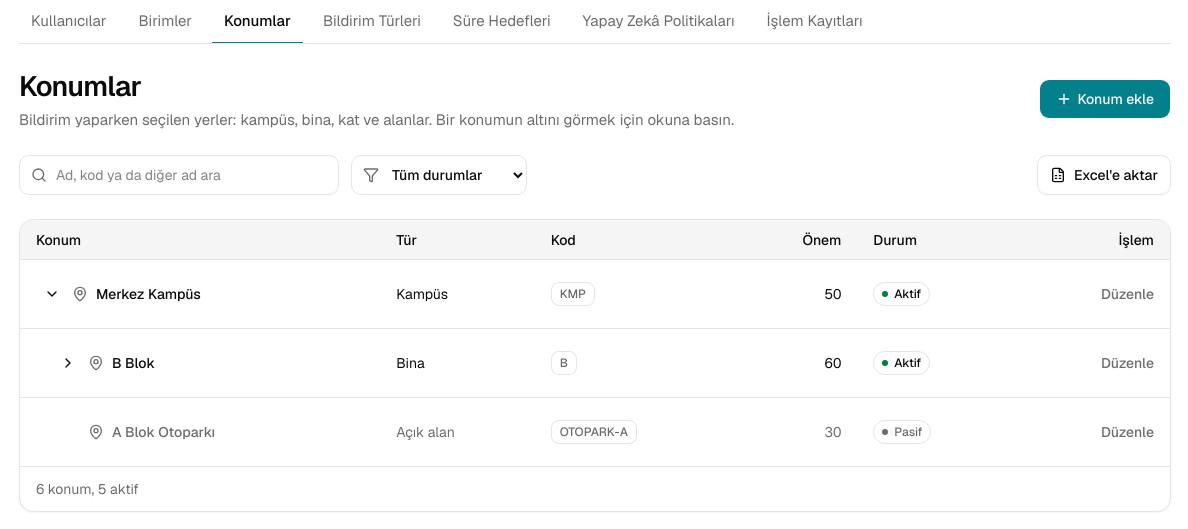
LocationsScreen › searches every level and shows where each result is
The width and height of the screenshot is (1188, 529).
Type "amfi" into the search field named "Konum ara".
click(179, 175); type("amfi")  # box x1=19 y1=155 x2=339 y2=195
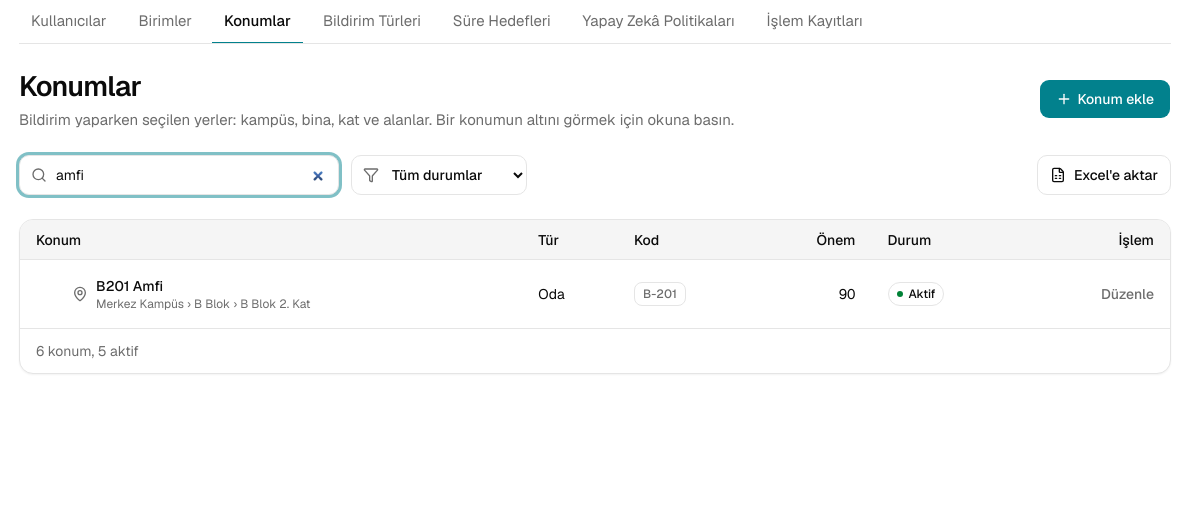
Expected: the text "Merkez Kampüs › B Blok › B Blok 2. Kat" is shown, x1=96 y1=296 x2=310 y2=312
